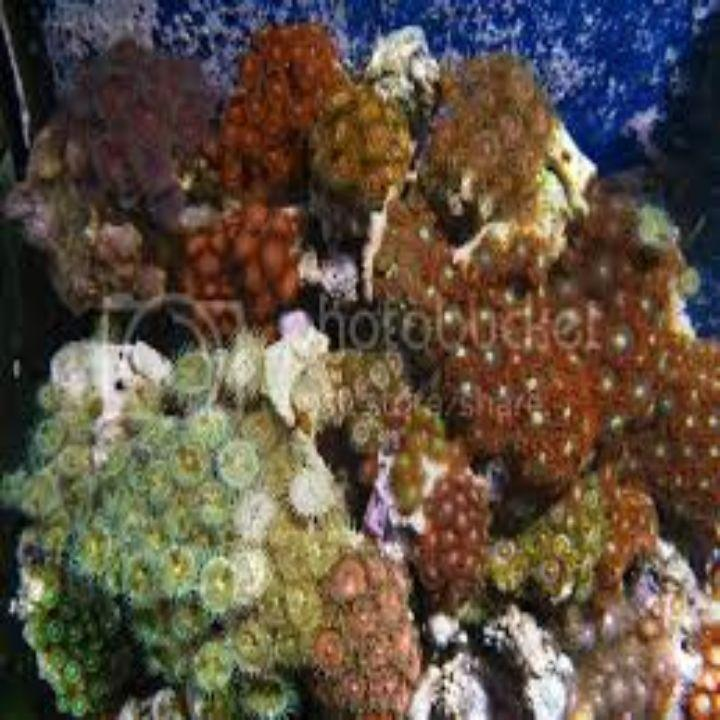White Pox Disease: (247, 283, 351, 437)
